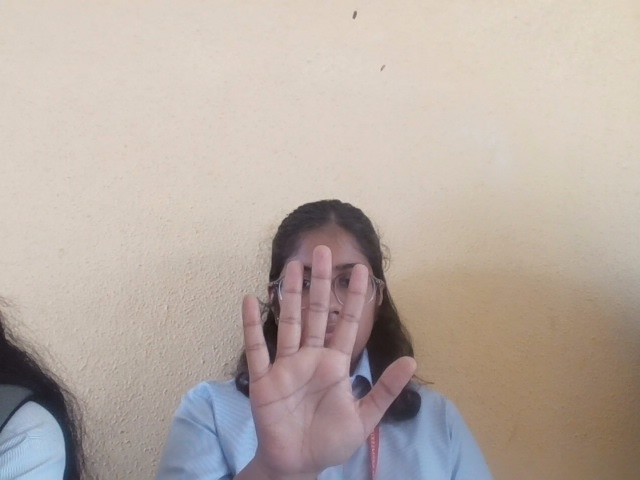Hello: (236, 242, 421, 477)
